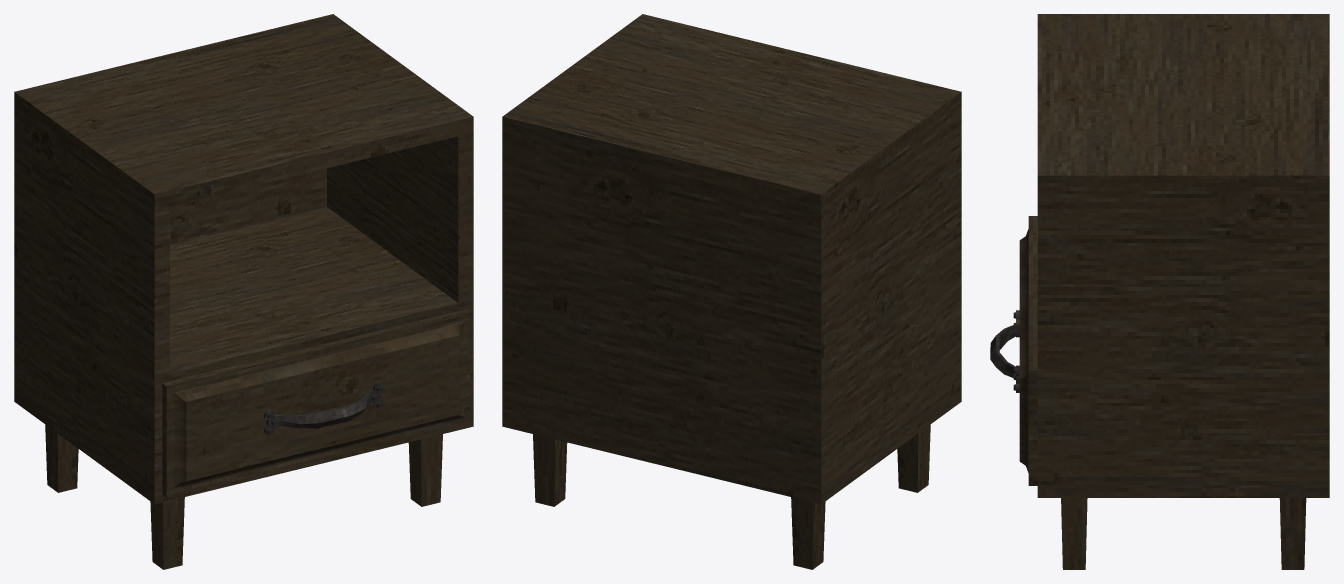
File: bedside_table_2_4.glb
The picture shows the model from 3 angles, left to right: view 1: azimuth 30°, elevation 25°; view 2: azimuth 150°, elevation 25°; view 3: azimuth 270°, elevation 25°; orthographic projection. The views are drawn at different scales.
Visible parts, largest first — view 1: bedside_table_2_4, bedside_table_2_4_drawer; view 2: bedside_table_2_4; view 3: bedside_table_2_4, bedside_table_2_4_drawer.
Part boxes in pixels (x1=…): bedside_table_2_4: x1=14, y1=14, x2=473, y2=569; bedside_table_2_4_drawer: x1=162, y1=309, x2=470, y2=497; bedside_table_2_4: x1=502, y1=14, x2=961, y2=569; bedside_table_2_4: x1=1037, y1=14, x2=1329, y2=569; bedside_table_2_4_drawer: x1=990, y1=216, x2=1037, y2=485.
Size of the model in its own units: 0.504 by 0.588 by 0.4463.
Materials: 2 (2 with a texture image).
